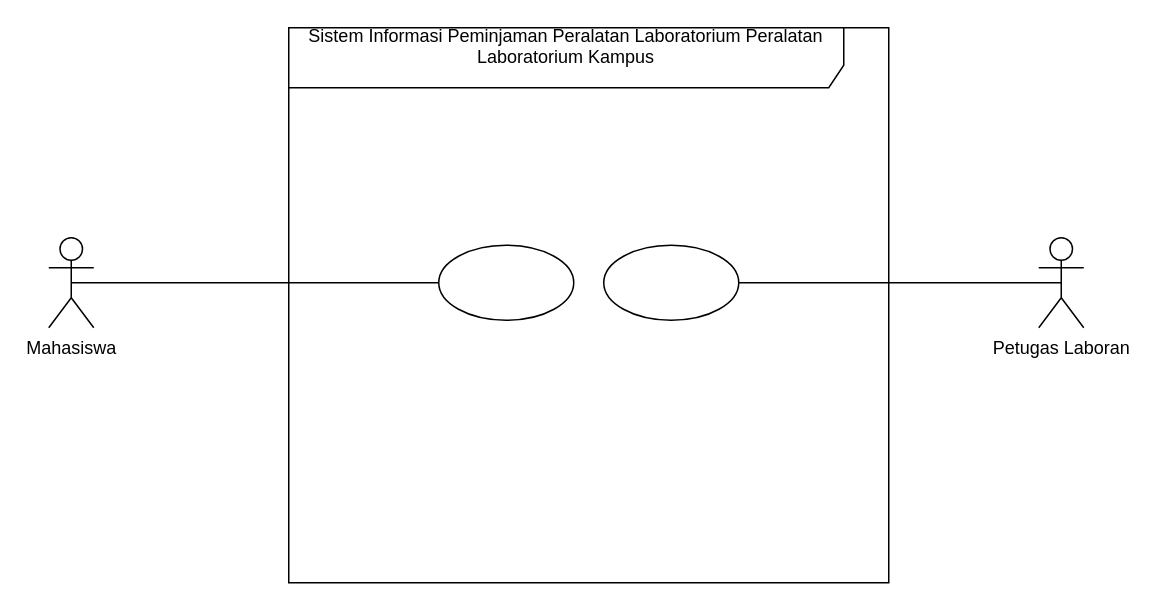
This 1155x609 diagram has some shape labels left out. Each missing label, with the centre of its shape:
"Kelola data peralatan" belongs at (x=670, y=282).
"Lihat ketersediaan peralatan" belongs at (x=505, y=282).
